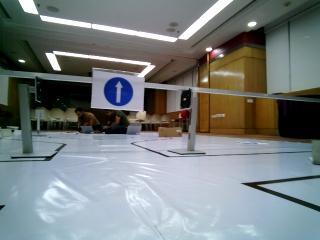straight: (86, 67, 148, 112)
